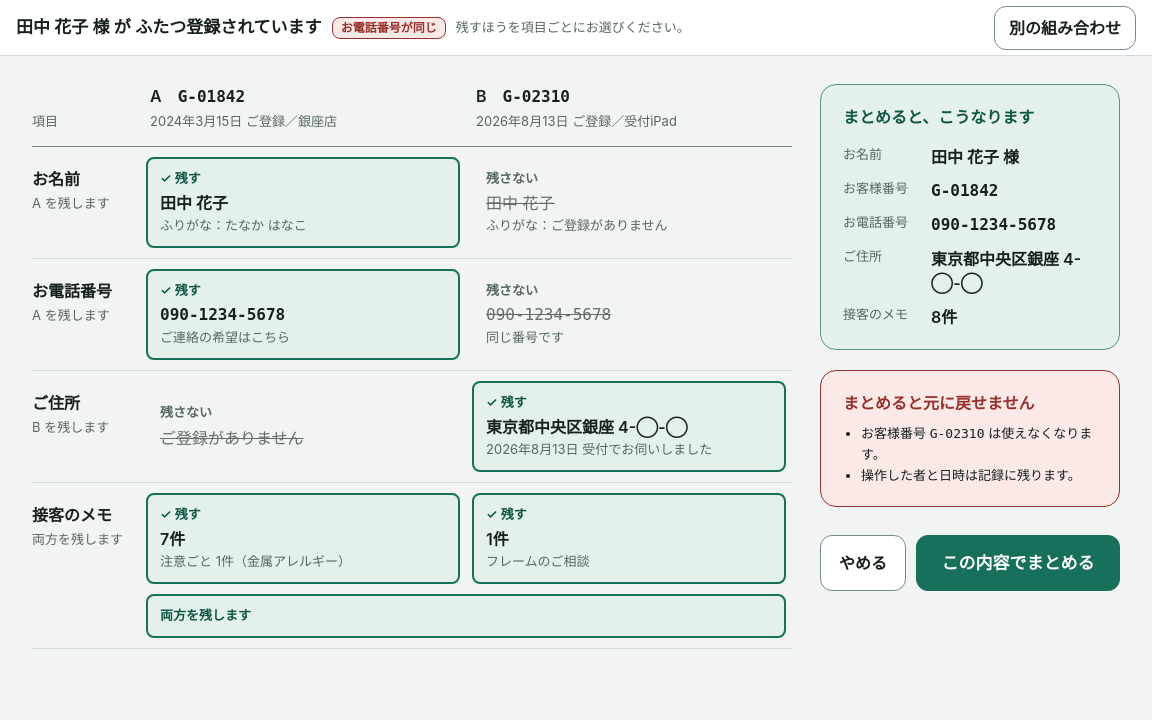
Test case: 結果 › 残す側を切り替えると、結果の値がその場で入れ替わる
This screenshot has width=1152, height=720.
Click the radio button labelled "✓ 残す 7件 注意ごと 1件（金属アレルギー）" at {"x": 180, "y": 514}, box [146, 492, 460, 584]
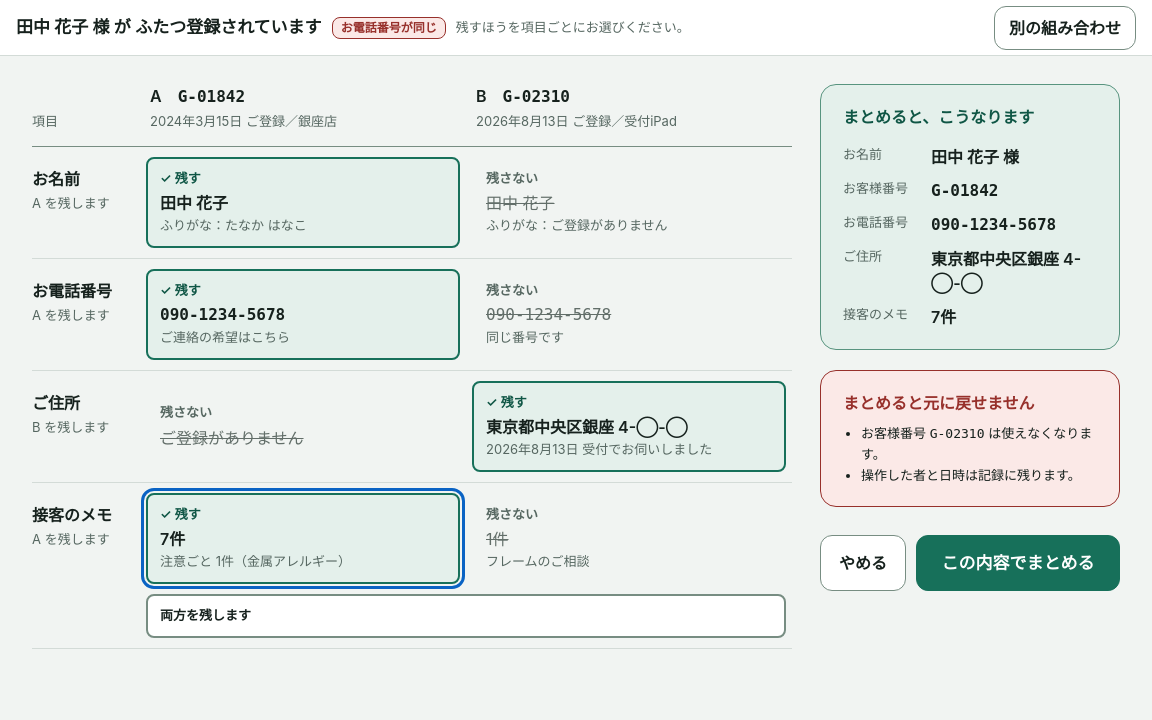
Expected: the text "7件" below "まとめると、こうなります" is shown, [931, 307, 956, 327]
Click the radio button labelled "残さない ご登録がありません" at {"x": 303, "y": 426}, box [146, 380, 460, 472]
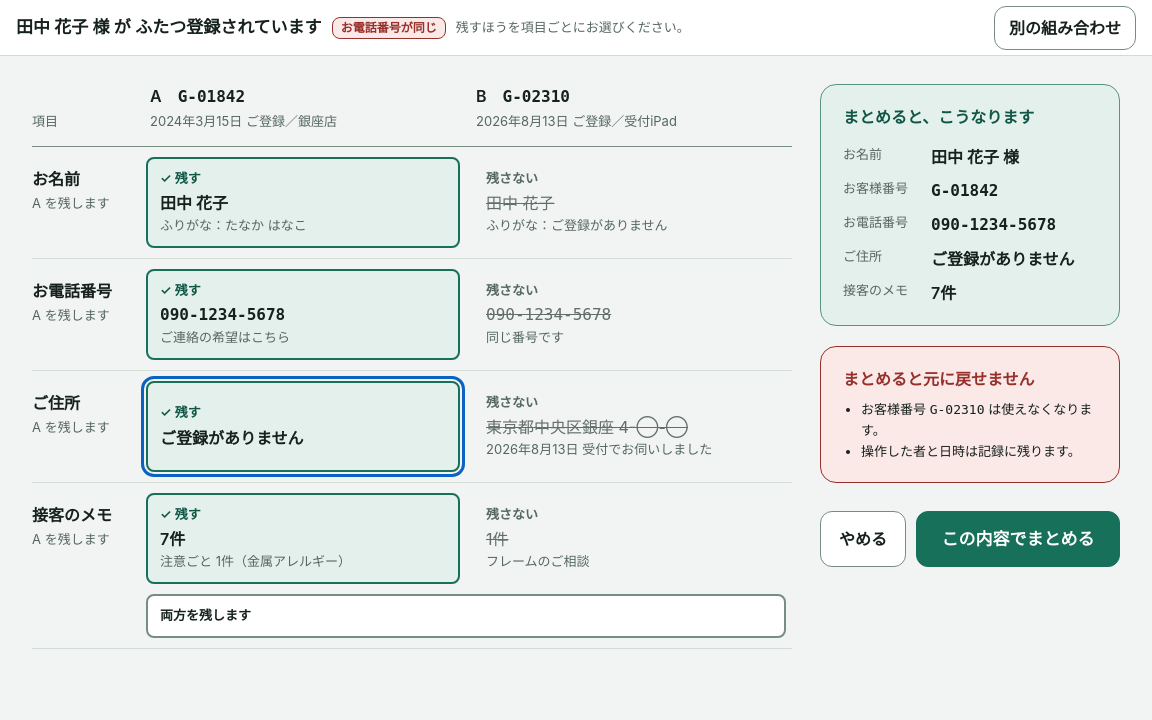
Expected: the text "ご登録がありません" below "まとめると、こうなります" is shown, [931, 249, 1074, 269]
